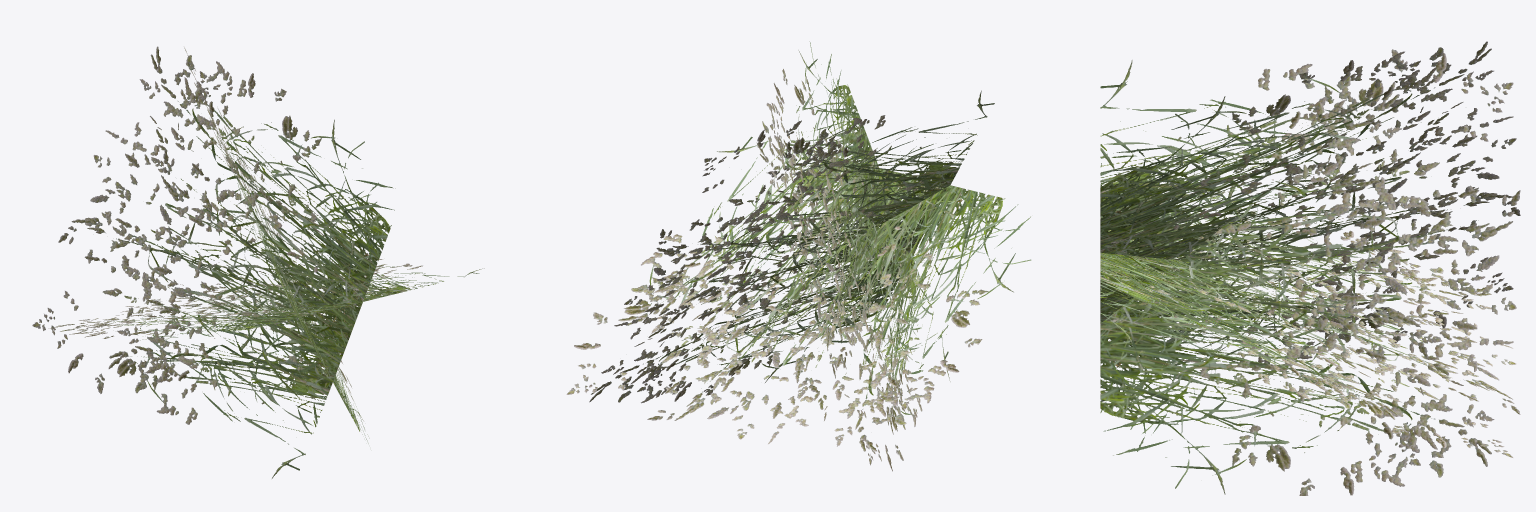
The model's file is grass1.fbx.
3 views of the same model, side by side, from view 1: azimuth 30°, elevation 25°; view 2: azimuth 150°, elevation 25°; view 3: azimuth 270°, elevation 25° (orthographic). The views are drawn at different scales.
Parts seen in each view (by area): view 1: Plane_013; view 2: Plane_013; view 3: Plane_013.
Part boxes in pixels (x1=…): Plane_013: x1=32, y1=46, x2=484, y2=478; Plane_013: x1=566, y1=41, x2=1031, y2=471; Plane_013: x1=1100, y1=41, x2=1520, y2=495.
Size of the model in its own units: 1 by 1.09 by 0.9397.
